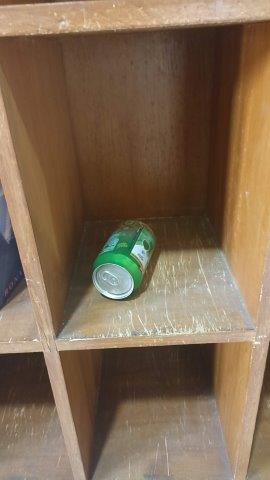kaleng: (91, 220, 156, 301)
